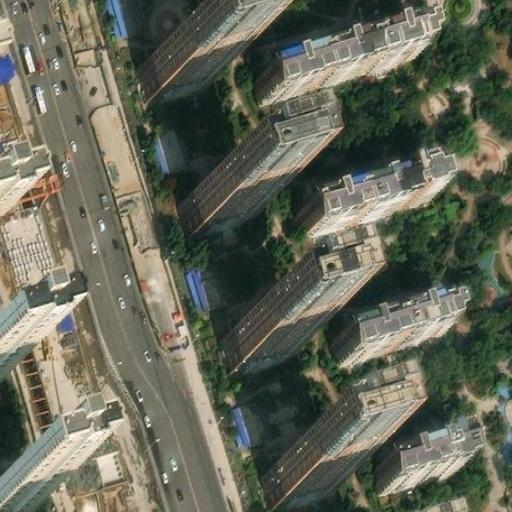building: (254, 27, 417, 99), (292, 161, 427, 227), (324, 297, 443, 359), (368, 432, 463, 492), (131, 40, 210, 98), (178, 174, 255, 233), (215, 310, 290, 368), (268, 452, 342, 510), (0, 473, 41, 511), (155, 121, 188, 165), (224, 403, 252, 450), (113, 0, 144, 31), (411, 499, 463, 512), (0, 53, 14, 83)
